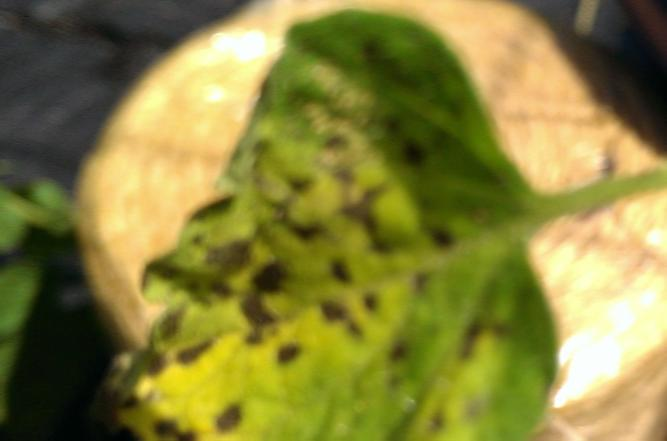Tomato Septoria leaf spot: (88, 0, 596, 441)
